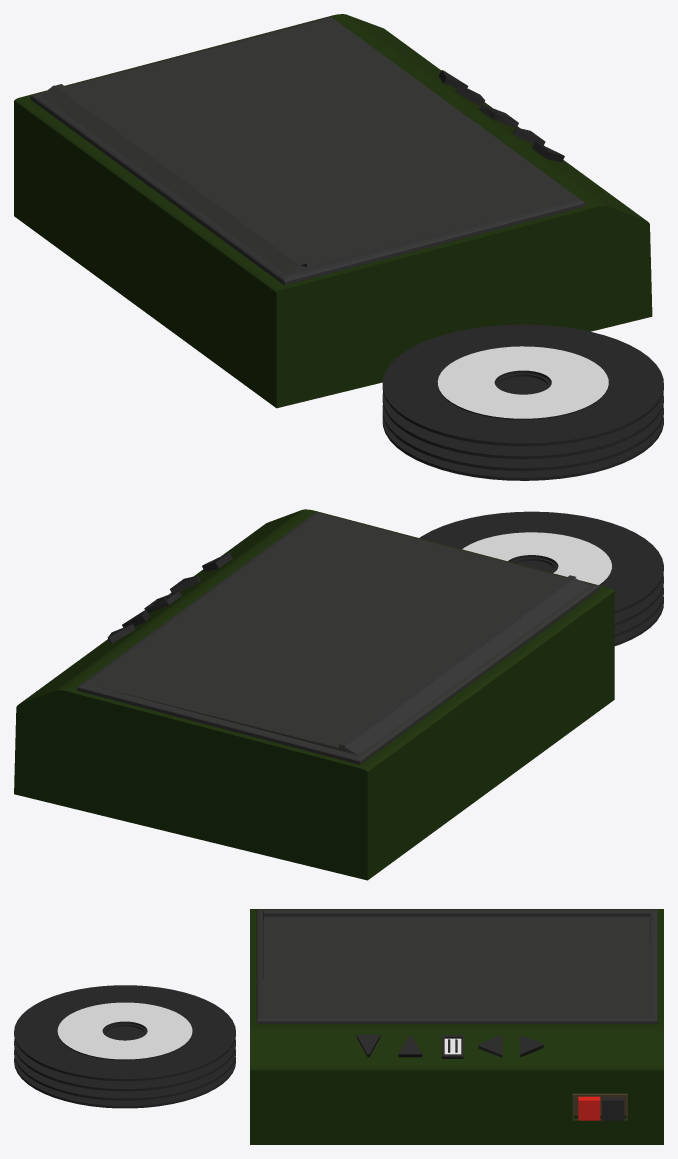
The model's file is cdPlayer 1.fbx.
3 views of the same model, one above another, from view 1: azimuth 30°, elevation 25°; view 2: azimuth 150°, elevation 25°; view 3: azimuth 270°, elevation 25° (orthographic). The views are drawn at different scales.
Parts seen in each view (by area): view 1: PlayerBody, bodylid, CD.001, CD.002, CD.003, CD.004; view 2: PlayerBody, bodylid, CD.001, CD.002, CD.003; view 3: PlayerBody, bodylid, CD.001, CD.002, CD.003, CD.004, switch1, switch2, pause, outercast.001, backward.
Boxes of the visible parts, bbox=[...] form: PlayerBody: bbox=[14, 14, 652, 408]; bodylid: bbox=[30, 16, 585, 285]; CD.001: bbox=[382, 324, 663, 446]; CD.002: bbox=[382, 391, 663, 459]; CD.003: bbox=[382, 404, 663, 470]; CD.004: bbox=[382, 415, 663, 480]; PlayerBody: bbox=[14, 509, 614, 880]; bodylid: bbox=[77, 512, 599, 764]; CD.001: bbox=[419, 511, 663, 613]; CD.002: bbox=[614, 576, 663, 625]; CD.003: bbox=[614, 588, 663, 636]; PlayerBody: bbox=[250, 909, 663, 1144]; bodylid: bbox=[256, 909, 657, 1023]; CD.001: bbox=[14, 985, 235, 1081]; CD.002: bbox=[14, 1039, 235, 1091]; CD.003: bbox=[14, 1048, 235, 1100]; CD.004: bbox=[14, 1057, 235, 1108]; switch1: bbox=[578, 1096, 600, 1120]; switch2: bbox=[602, 1097, 624, 1120]; pause: bbox=[442, 1035, 463, 1058]; outercast.001: bbox=[572, 1093, 627, 1120]; backward: bbox=[478, 1035, 502, 1057].
Size of the model in its own units: 25.4 by 8.15 by 47.14.
